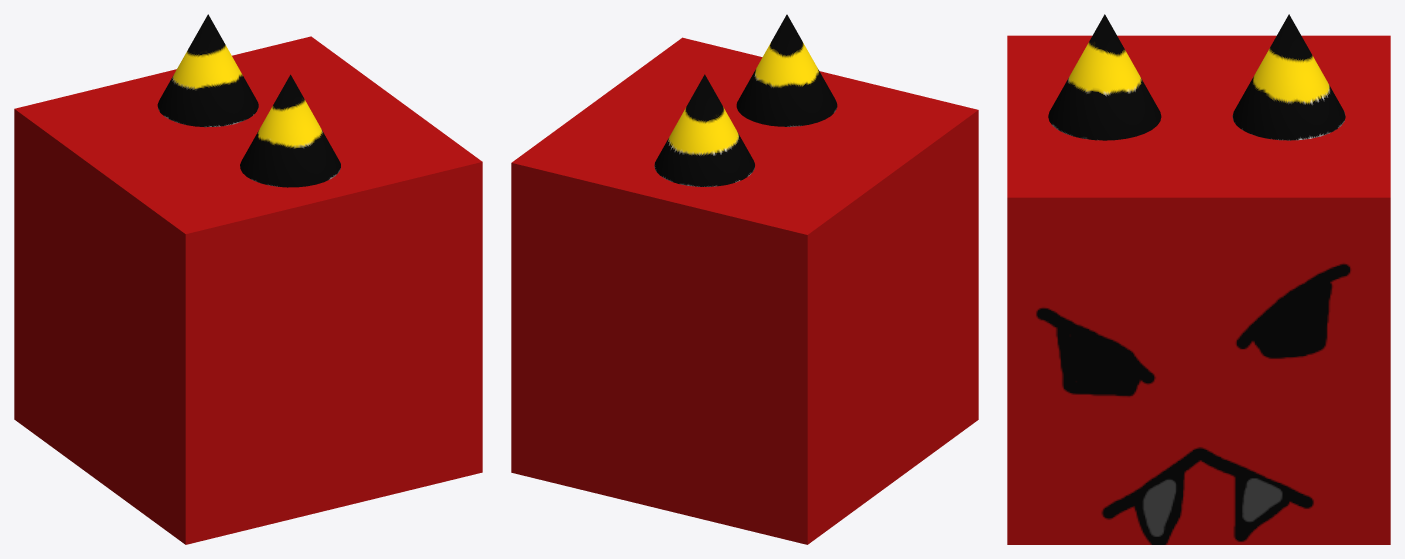
File: goal.obj
The picture shows the model from 3 angles, left to right: view 1: azimuth 30°, elevation 25°; view 2: azimuth 150°, elevation 25°; view 3: azimuth 270°, elevation 25°; orthographic projection. The views are drawn at different scales.
Parts seen in each view (by area): view 1: 立方体; view 2: 立方体; view 3: 立方体.
Part boxes in pixels (x1=…): 立方体: x1=14, y1=14, x2=482, y2=544; 立方体: x1=511, y1=14, x2=978, y2=544; 立方体: x1=1007, y1=14, x2=1390, y2=544.
Bounding box in the file's own units: 0.8866 × 1.15 × 0.8866.
Materials: 1 (1 with a texture image).
